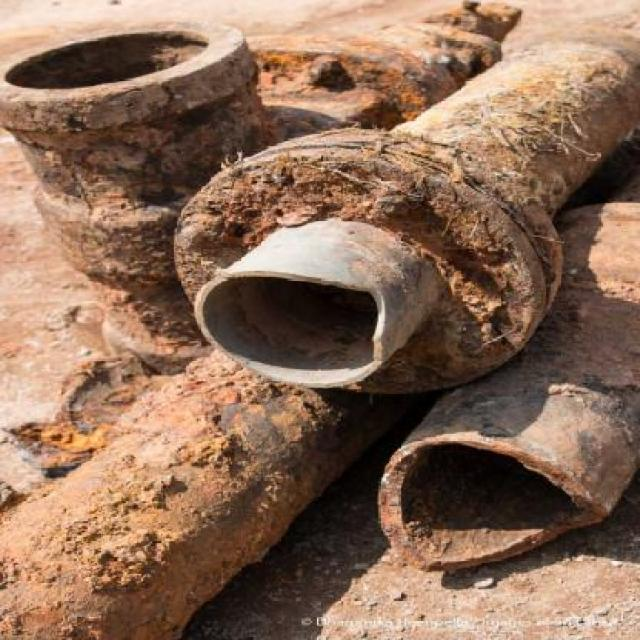corrosion: (3, 21, 640, 638)
